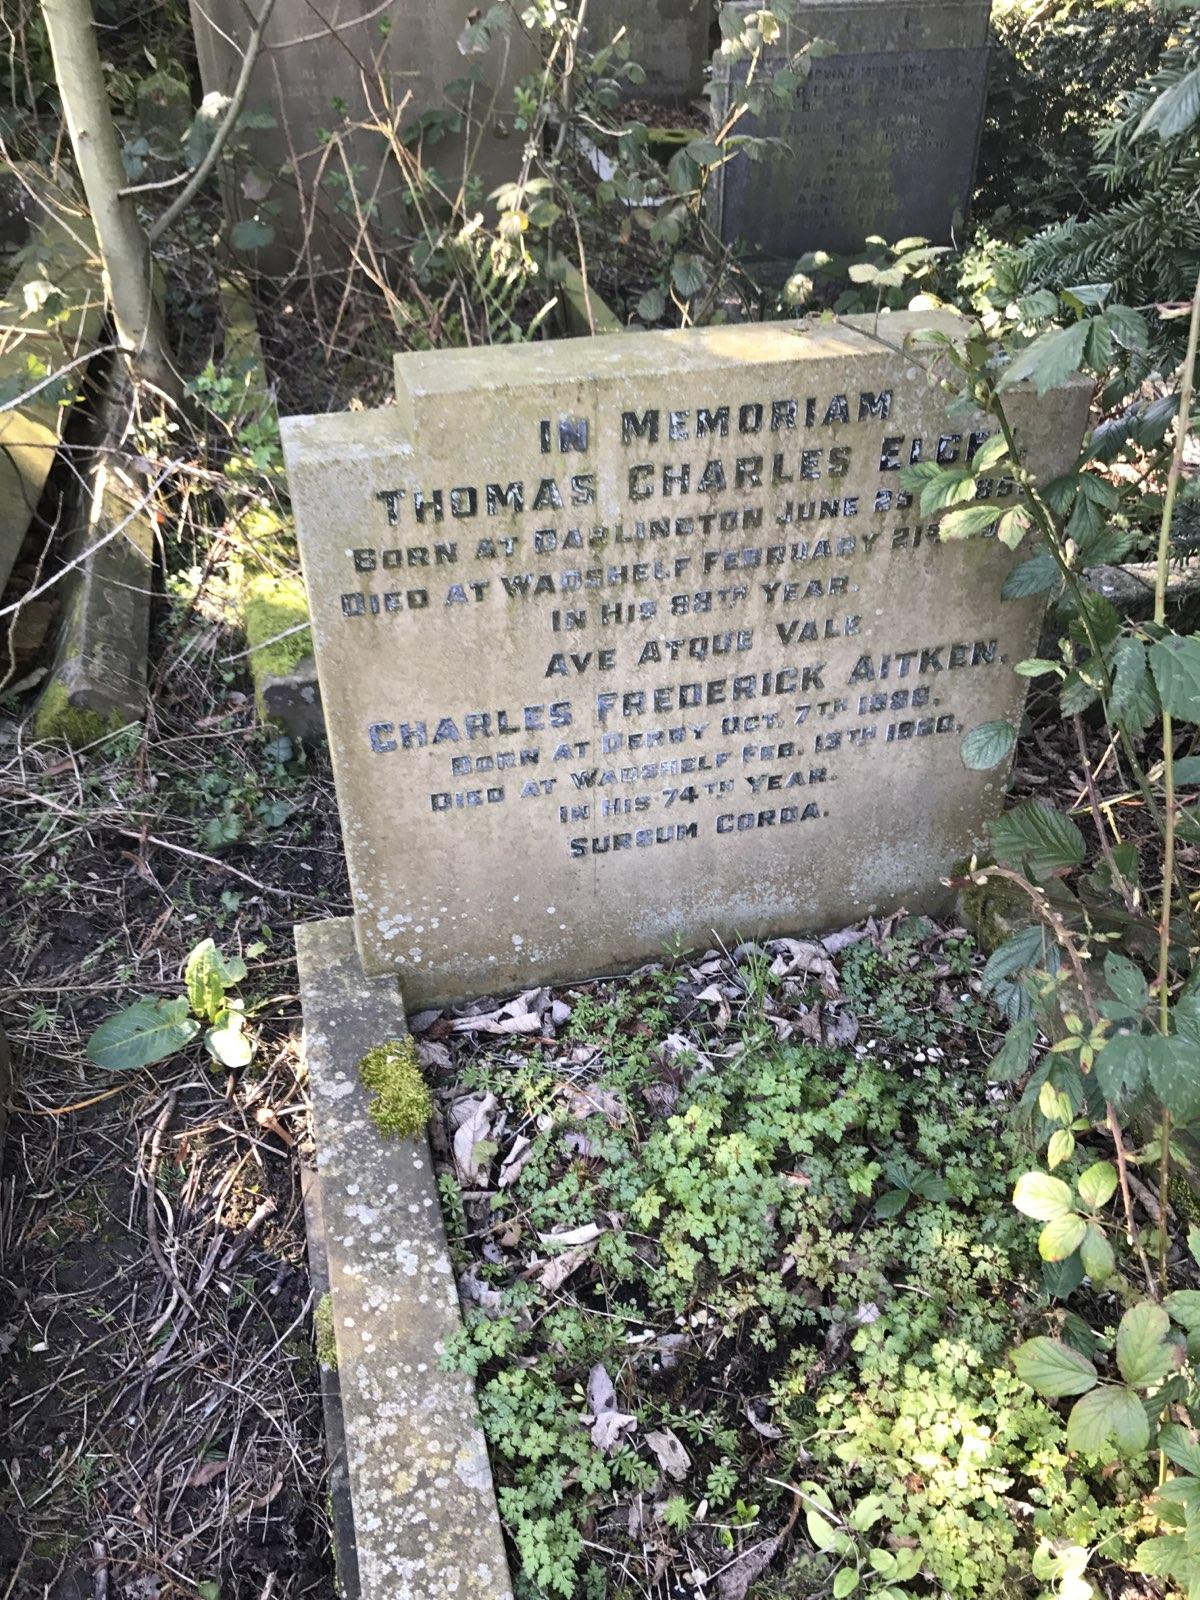upright: (252, 320, 1160, 991)
